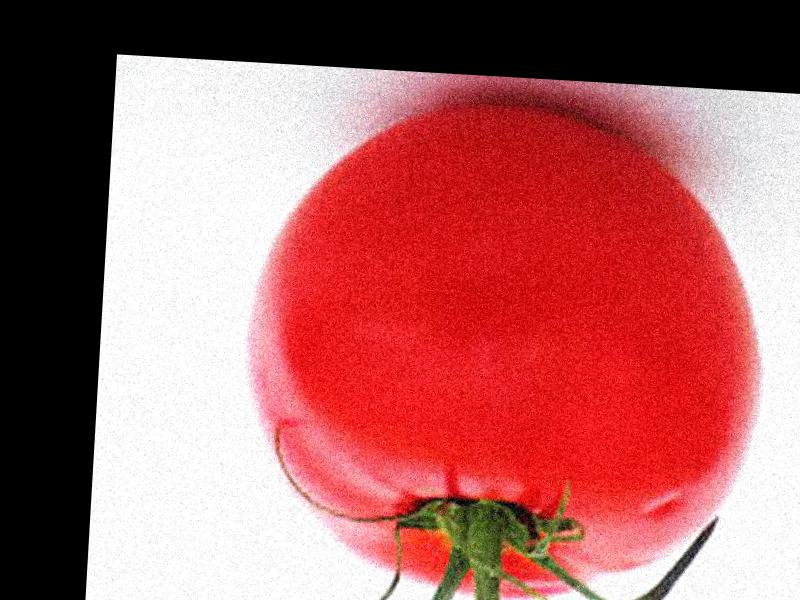Tomato: (228, 87, 771, 600)
